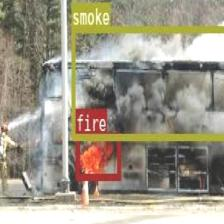fire: (75, 132, 120, 178)
smoke: (70, 25, 224, 139)
